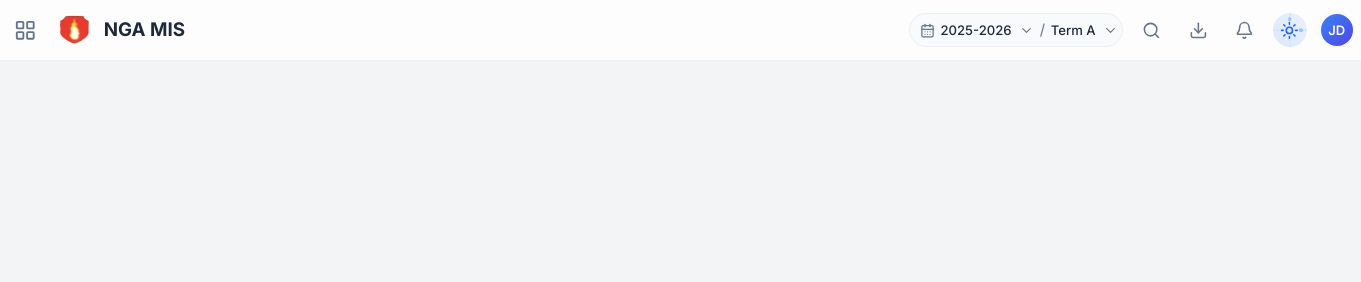
Scenario: Navbar › renders a search icon that opens a search dropdown
Click the button named "search". click: (1151, 30)
box: [1134, 13, 1168, 47]
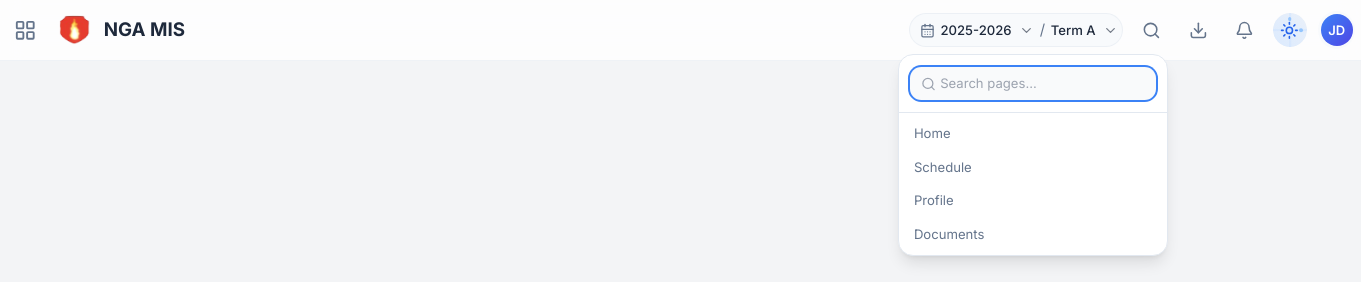
Now the field with placeholder "Search pages..." is shown, box [910, 67, 1156, 100]
